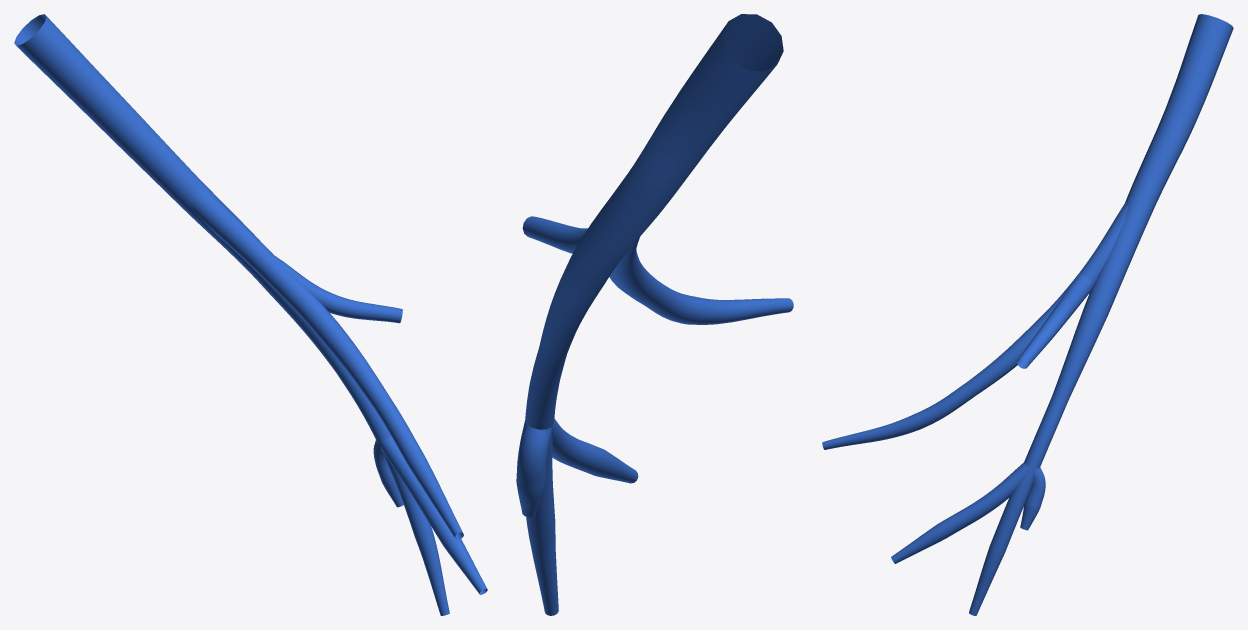
The model's file is circulatorio-lateral-basal-segmental-artery-of-left-lung.glb.
3 renders of one model, left to right at view 1: azimuth 30°, elevation 25°; view 2: azimuth 150°, elevation 25°; view 3: azimuth 270°, elevation 25°, orthographic. The views are drawn at different scales.
Visible parts, largest first — view 1: Lateral basal segmental artery of left lung; view 2: Lateral basal segmental artery of left lung; view 3: Lateral basal segmental artery of left lung.
Part boxes in pixels (bbox=[...]): Lateral basal segmental artery of left lung: bbox=[14, 14, 487, 615]; Lateral basal segmental artery of left lung: bbox=[516, 14, 793, 615]; Lateral basal segmental artery of left lung: bbox=[822, 14, 1233, 615].
Bounding box in the file's own units: 0.0701 × 0.1284 × 0.0979.
